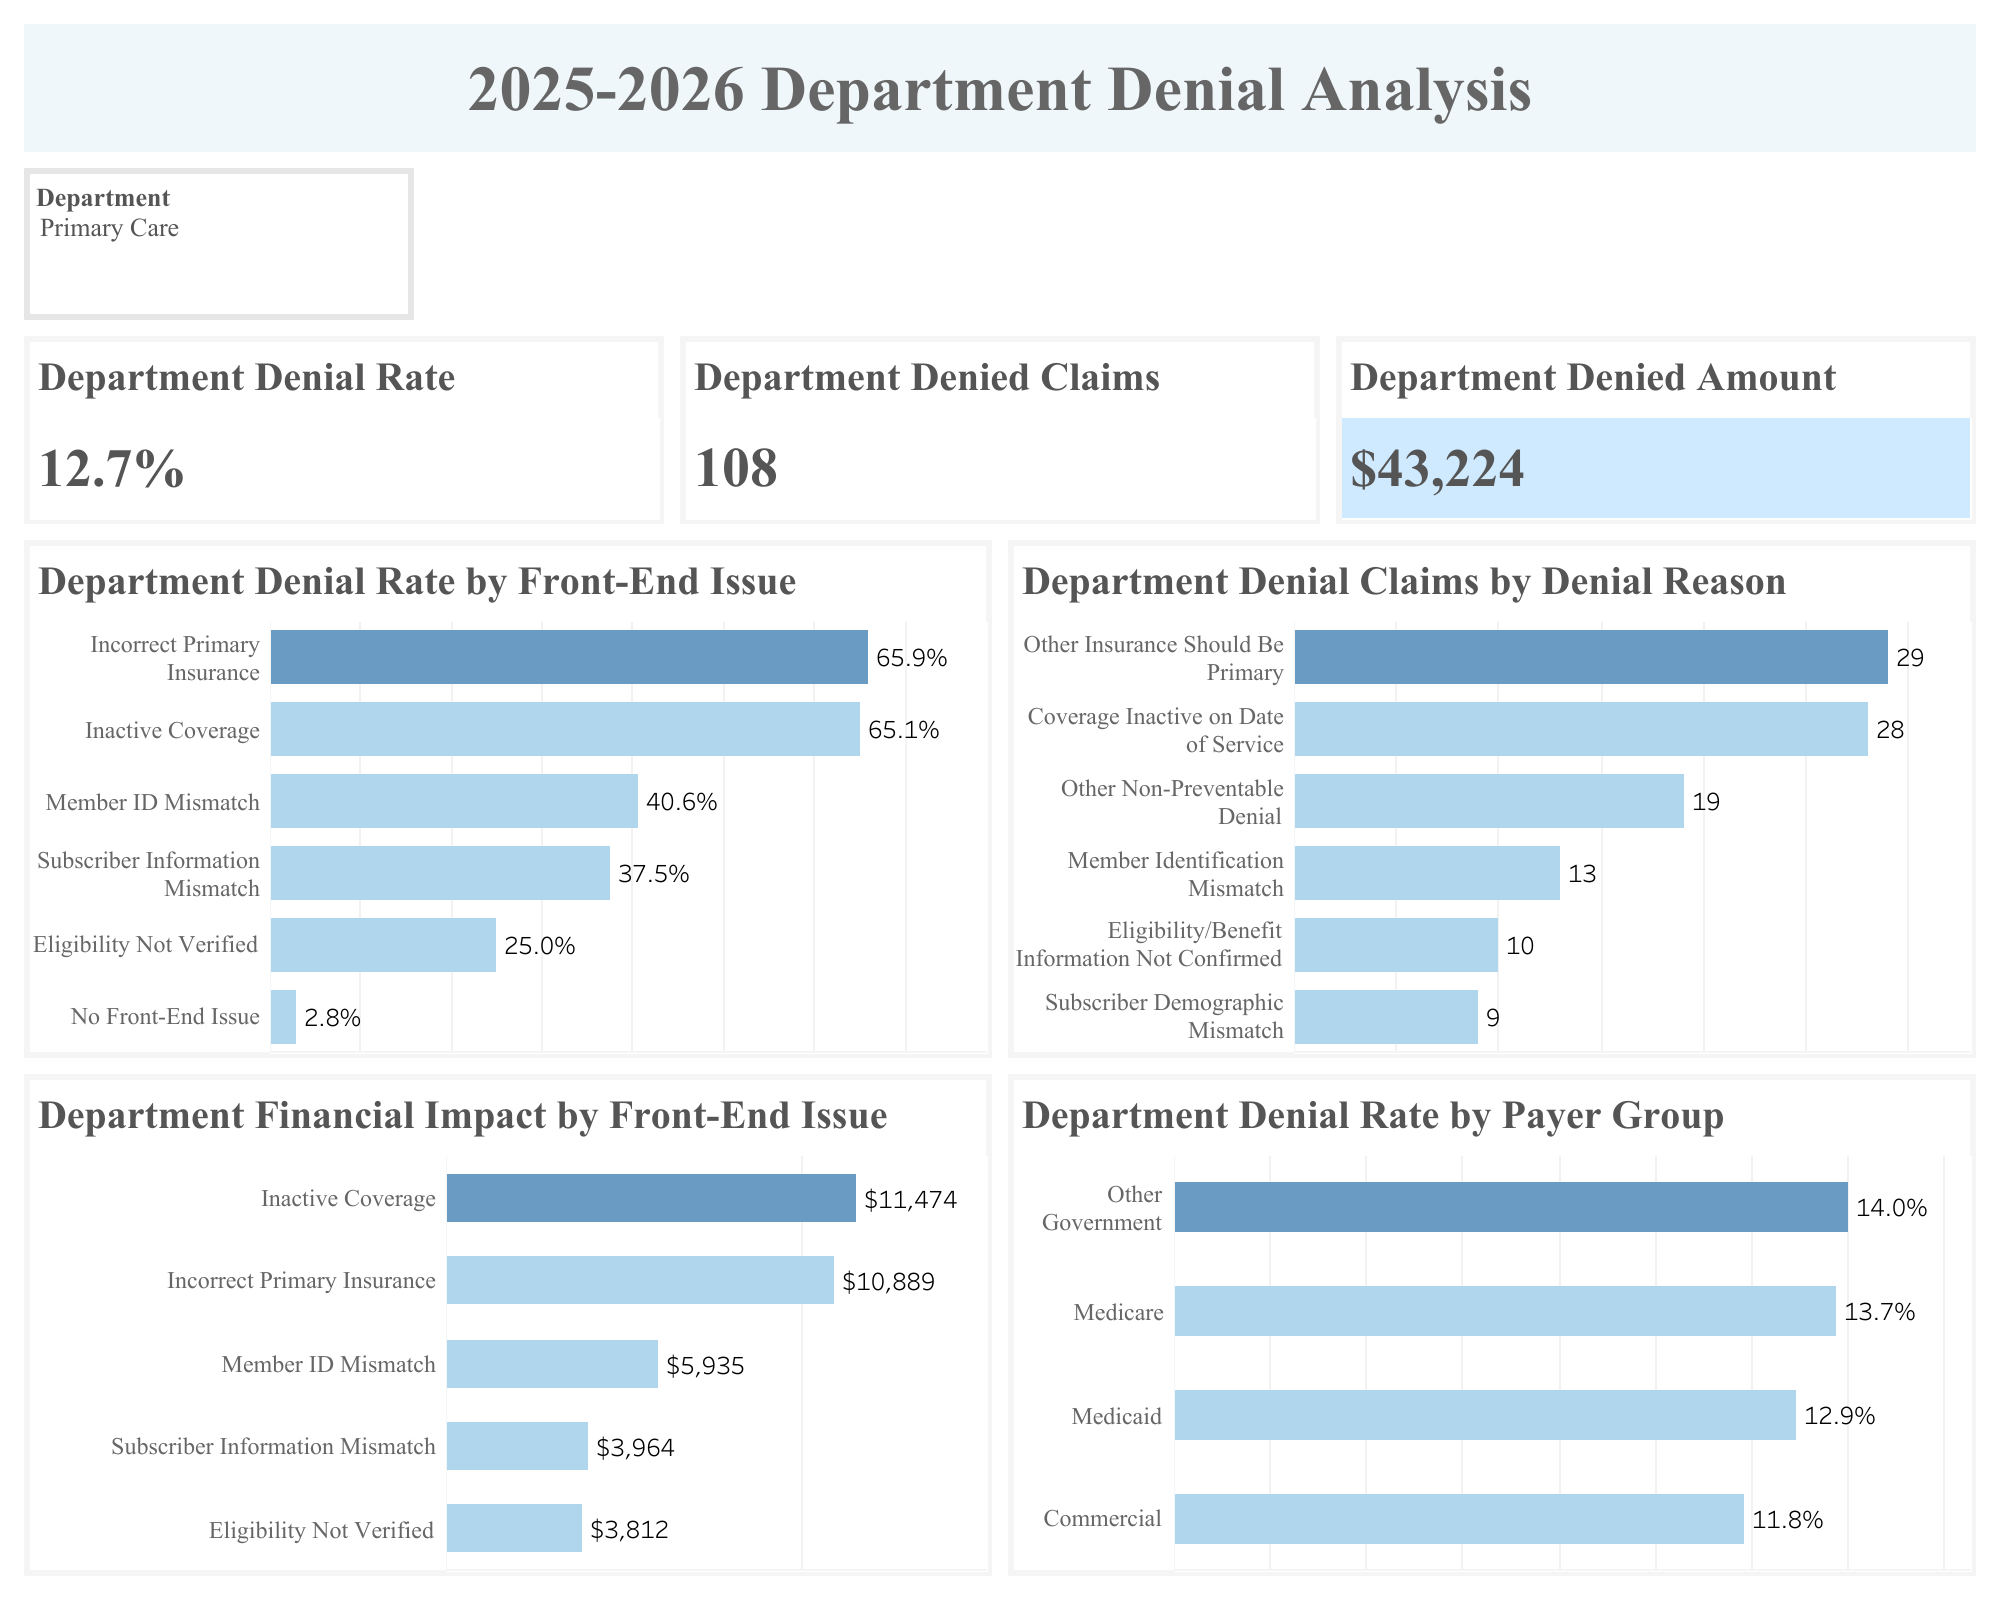

What the dashboard file says about the page in this screenshot:
{"tool":"tableau","page":{"name":"Department Analysis","canvas":[1000,800],"ordinal":0},"visuals":[{"type":"text","box":[8,8,984,72]},{"type":"filter","title":"Department Denial Rate","param":"[federated.1f7t0ab0ejwsoe1gbkrz80onrnb4].[none:Department:nk]","box":[8,80,203,84]},{"type":"blank","box":[211,80,781,84]},{"type":"worksheet","title":"Department Denial Rate","mark":"Automatic","box":[8,164,328,102]},{"type":"worksheet","title":"Department Denied Claims ","mark":"Automatic","box":[336,164,328,102]},{"type":"worksheet","title":"Department Denied Amount","mark":"Automatic","box":[664,164,328,102]},{"type":"worksheet","title":"Department Denial Rate by Front-End Issue ","mark":"Automatic","rows":["Front_End_Issue"],"cols":["Calculation_0774159867535362"],"box":[8,266,492,267]},{"type":"worksheet","title":"Department Denial Claims by Denial Reason","mark":"Automatic","rows":["Denial_Reason"],"cols":["Claim_Denied"],"box":[500,266,492,267]},{"type":"worksheet","title":"Department Financial Impact by Front-End Issue","mark":"Automatic","rows":["Front_End_Issue"],"cols":["Denied_Amount"],"box":[8,533,492,259]},{"type":"worksheet","title":"Department Denial Rate by Payer Group","mark":"Automatic","rows":["Payer_Group"],"cols":["Calculation_0774159867535362"],"box":[500,533,492,259]}]}

Visuals, with their boxes in screenshot pixels (x1, y1, x2, y2), scaled from the page's 1000x800 canvas onto the 1998x1598 screenshot:
text: crop(16, 16, 1982, 160)
"Department Denial Rate" filter: crop(16, 160, 422, 328)
blank: crop(422, 160, 1982, 328)
"Department Denial Rate" worksheet: crop(16, 328, 671, 531)
"Department Denied Claims " worksheet: crop(671, 328, 1327, 531)
"Department Denied Amount" worksheet: crop(1327, 328, 1982, 531)
"Department Denial Rate by Front-End Issue " worksheet: crop(16, 531, 999, 1065)
"Department Denial Claims by Denial Reason" worksheet: crop(999, 531, 1982, 1065)
"Department Financial Impact by Front-End Issue" worksheet: crop(16, 1065, 999, 1582)
"Department Denial Rate by Payer Group" worksheet: crop(999, 1065, 1982, 1582)
